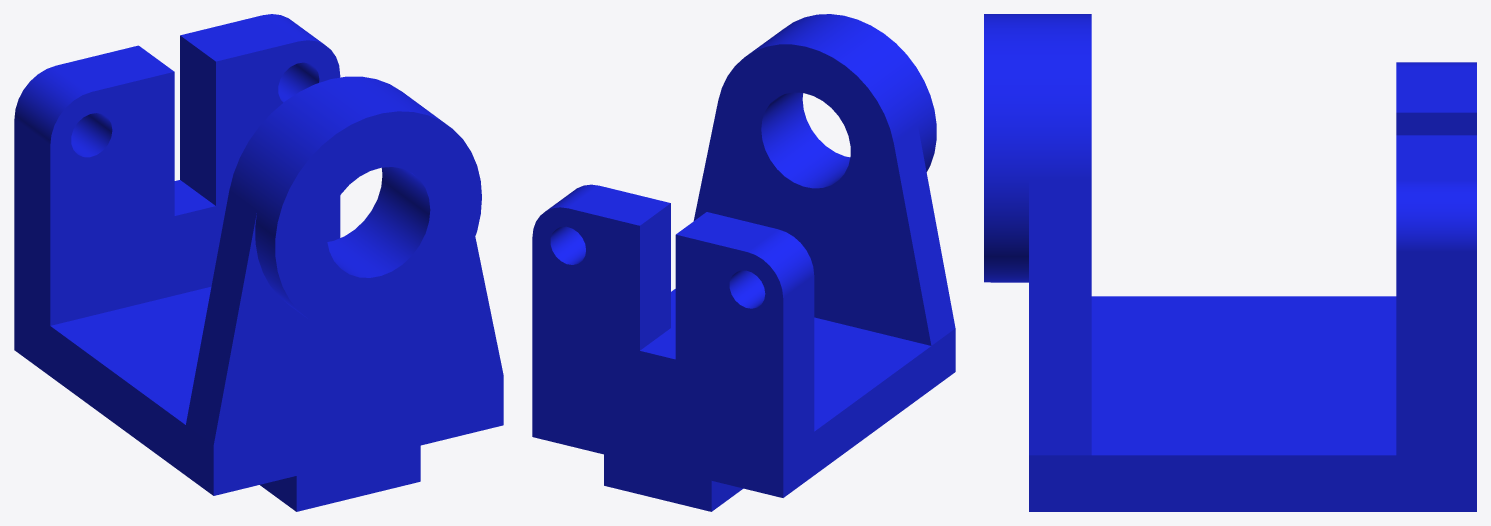
Rendered from asset.glb.
3 views of the same model, side by side, from view 1: azimuth 30°, elevation 25°; view 2: azimuth 150°, elevation 25°; view 3: azimuth 270°, elevation 25° (orthographic). The views are drawn at different scales.
Visible parts, largest first — view 1: Solid2; view 2: Solid2; view 3: Solid2.
Boxes of the visible parts, left/top/right/bottom form: Solid2: left=14, top=14, right=503, bottom=511; Solid2: left=532, top=14, right=955, bottom=511; Solid2: left=984, top=14, right=1476, bottom=511.
Size of the model in its own units: 0.042 by 0.055 by 0.055.
